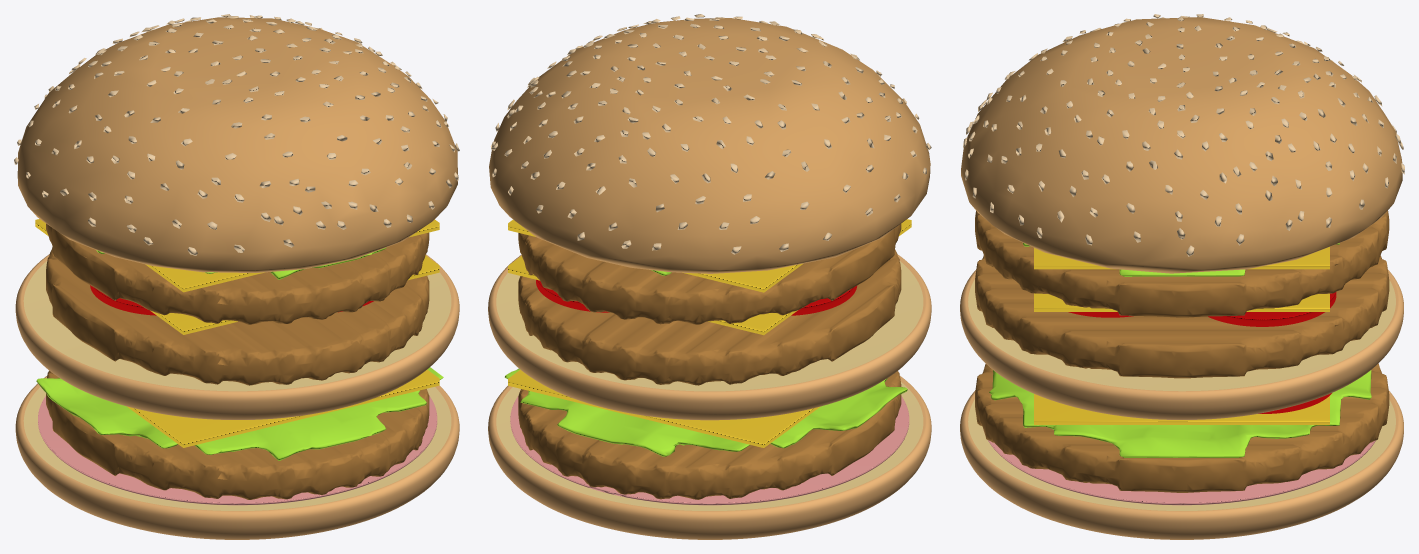
The model's file is burger.glb.
3 renders of one model, left to right at view 1: azimuth 30°, elevation 25°; view 2: azimuth 150°, elevation 25°; view 3: azimuth 270°, elevation 25°, orthographic.
Visible parts, largest first — view 1: Burger; view 2: Burger; view 3: Burger.
Part boxes in pixels (box(x1,y1,x2,y2)): Burger: box(14, 14, 459, 539); Burger: box(488, 14, 931, 539); Burger: box(960, 14, 1404, 539).
Bounding box in the file's own units: 1.2 × 1.19 × 1.2.
